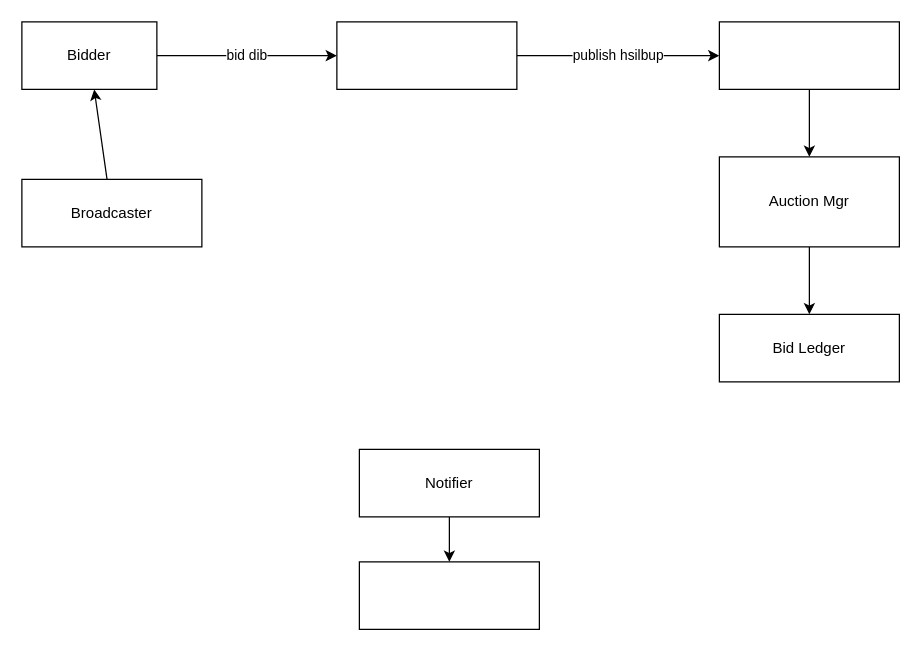
The diagram is 921 pixels wide and 651 high, and some of its shapes have lost their labels. The shapes that lost their labels are listed below. From the top down, each one's box as (x1, y1, x2, y2) in pixels, then its label:
(336, 21, 517, 89): WS Gateway
(718, 21, 899, 89): Bid Service
(358, 561, 539, 629): Email/SMS
